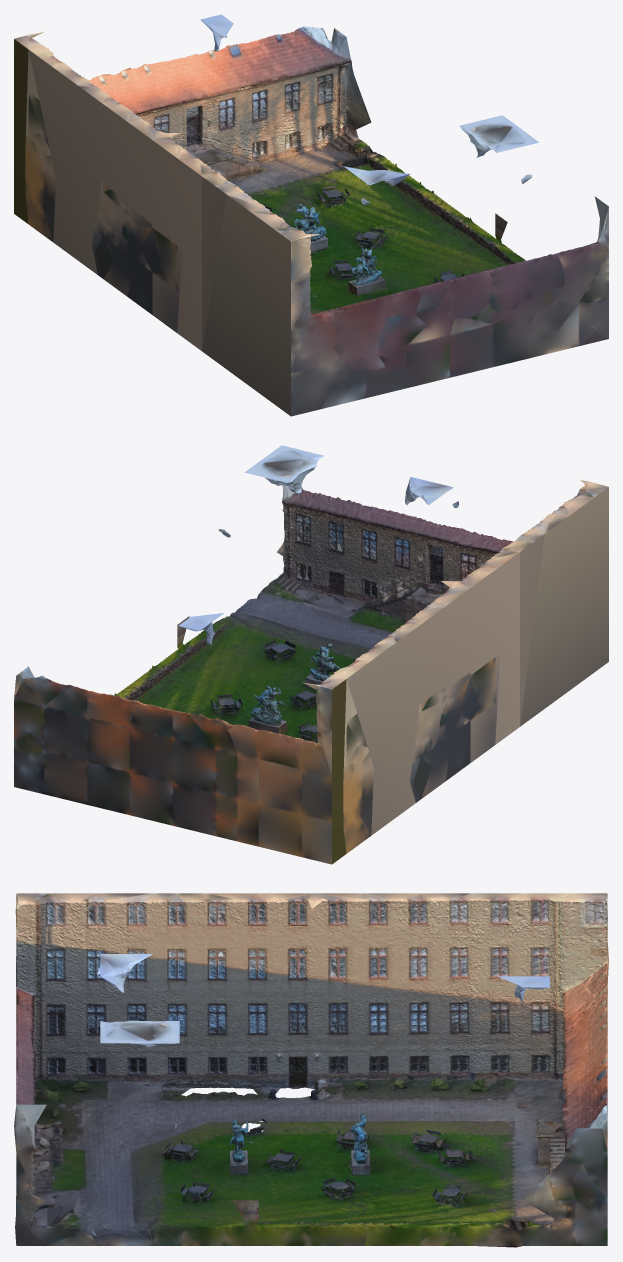
File: schoolyardscan2_LOD0.fbx
3 views of the same model, one above another, from view 1: azimuth 30°, elevation 25°; view 2: azimuth 150°, elevation 25°; view 3: azimuth 270°, elevation 25° (orthographic). The views are drawn at different scales.
Parts seen in each view (by area): view 1: schoolyardscan2_LOD0; view 2: schoolyardscan2_LOD0; view 3: schoolyardscan2_LOD0.
Boxes of the visible parts, <box> form: schoolyardscan2_LOD0: <box>14,14,608,416</box>; schoolyardscan2_LOD0: <box>14,445,608,864</box>; schoolyardscan2_LOD0: <box>14,893,608,1247</box>.
Size of the model in its own units: 38.82 by 13.74 by 25.63.
Materials: 1 (1 with a texture image).
